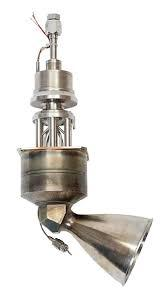thruster: (69, 207, 154, 286)
